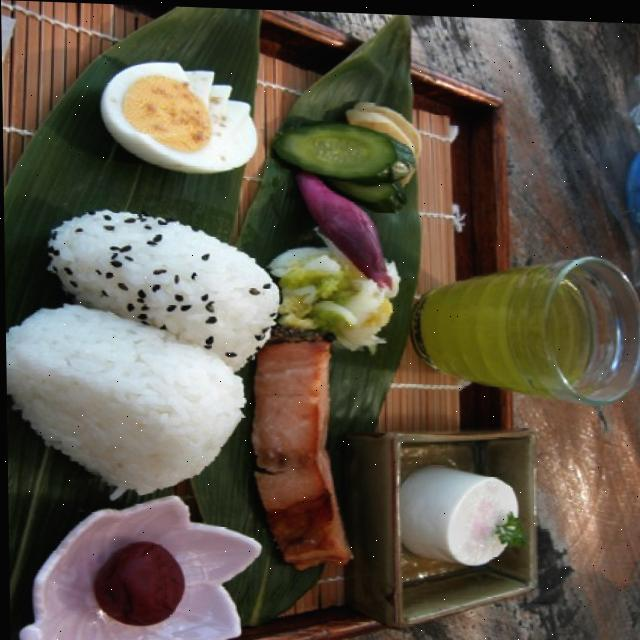熟制海鲜: (265, 343, 336, 571)
米饭主食: (3, 296, 258, 484), (50, 198, 283, 376)
豆腐料理: (414, 464, 511, 576)
